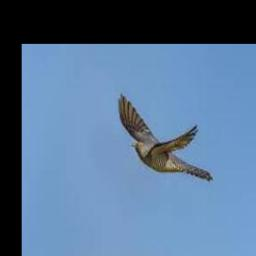Cuckoo: (119, 94, 214, 181)
